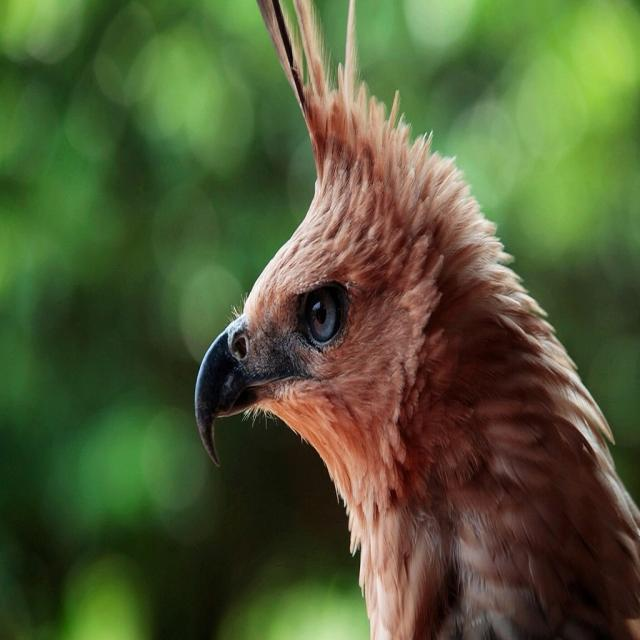Elang Jawa: (158, 0, 628, 640)
